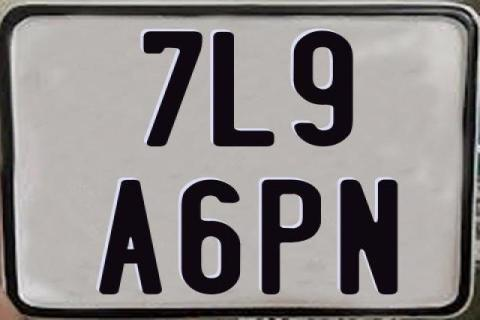0: (143, 29, 209, 149), (292, 29, 352, 149), (178, 179, 240, 295)
A: (99, 178, 168, 296)
L: (211, 32, 278, 150)
N: (340, 178, 399, 294)
P: (262, 179, 324, 299)
